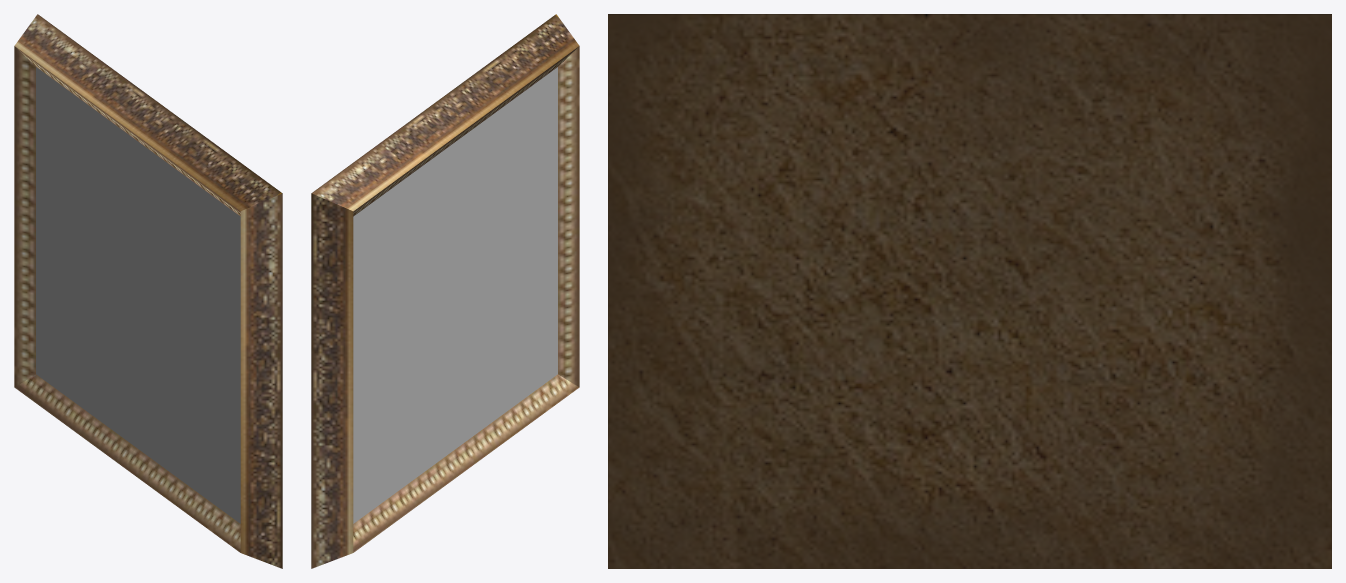
File: psx-painting.obj
3 views of the same model, side by side, from view 1: azimuth 30°, elevation 25°; view 2: azimuth 150°, elevation 25°; view 3: azimuth 270°, elevation 25° (orthographic). The views are drawn at different scales.
Parts seen in each view (by area): view 1: obj2, obj1; view 2: obj2, obj1; view 3: obj1.
Part boxes in pixels (box(x1,y1,x2,y2)): obj2: box(36, 67, 240, 523); obj1: box(14, 14, 282, 568); obj2: box(353, 67, 557, 523); obj1: box(311, 14, 579, 568); obj1: box(608, 14, 1331, 568).
Bounding box in the file's own units: 0.125 × 1.38 × 1.62.
